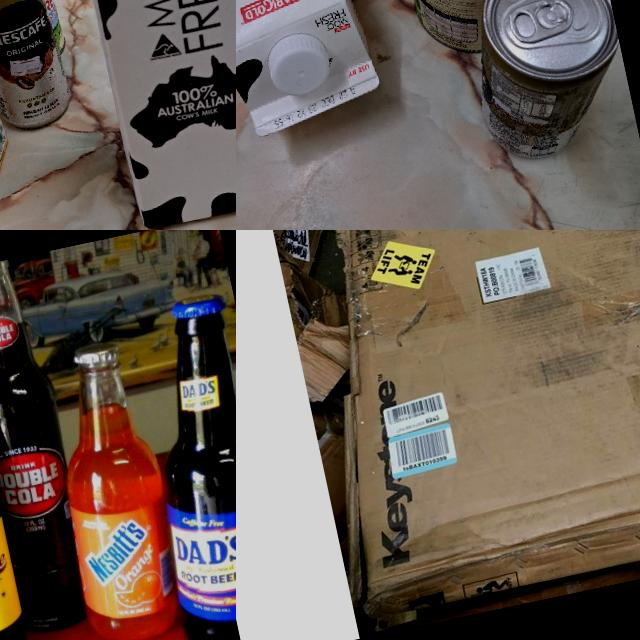aba de lata: (498, 0, 577, 48)
caixinha: (41, 0, 236, 230), (236, 0, 387, 147)
garrafa de vidro: (32, 332, 195, 640), (115, 287, 236, 640), (0, 255, 99, 638)
lata: (458, 0, 638, 165), (0, 0, 83, 139), (389, 0, 577, 61)
papelão: (258, 230, 640, 635)
tampa plástica: (262, 26, 336, 98)
